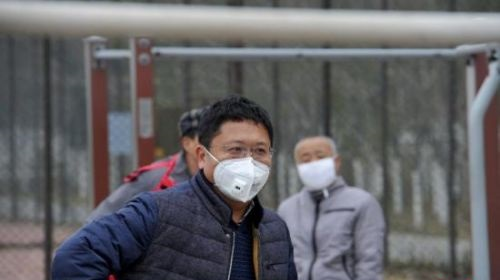face_mask: (207, 122, 270, 201), (296, 141, 335, 188)
